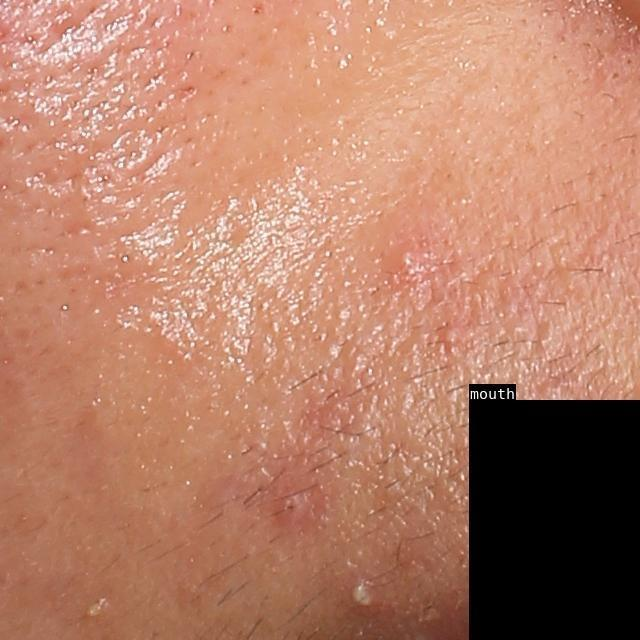papule: (276, 486, 309, 525)
pustule: (348, 576, 380, 617)
